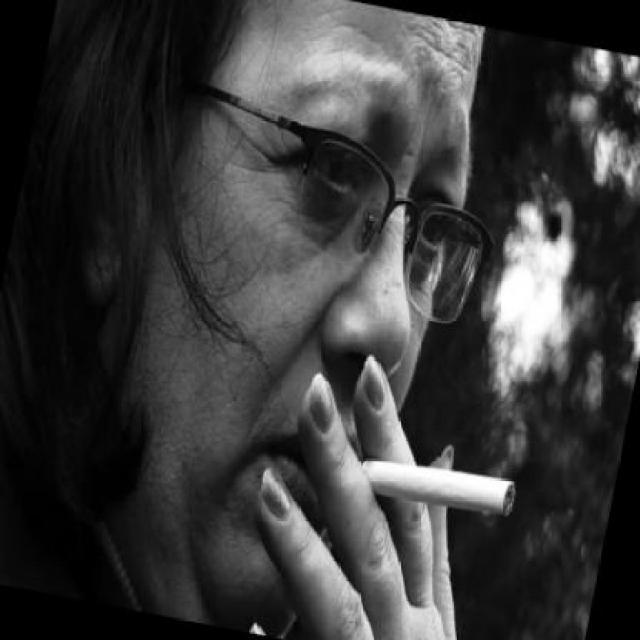smoke: (351, 448, 520, 526)
